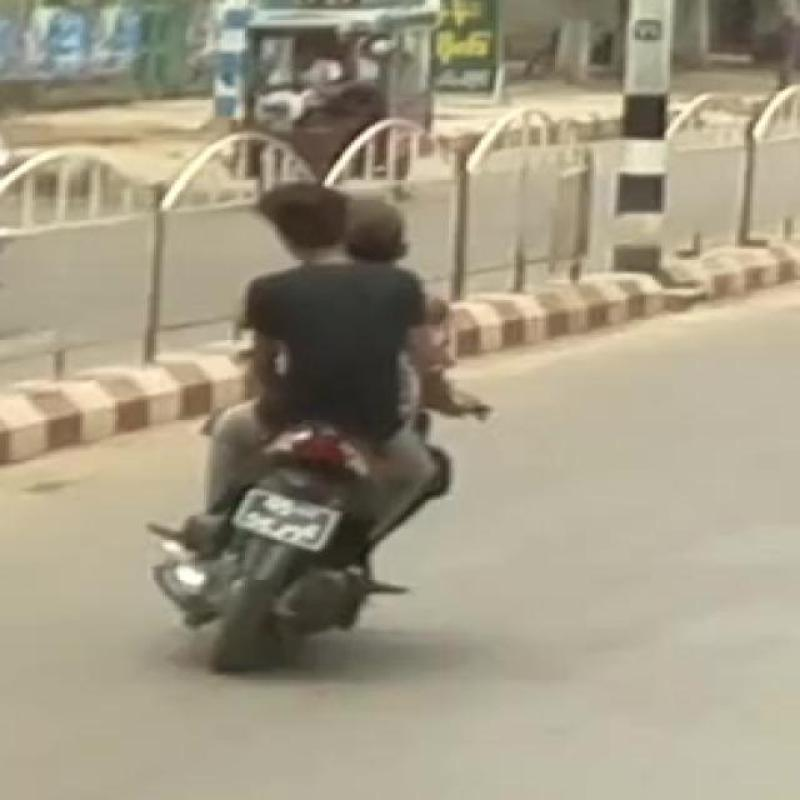nohelmet: (244, 165, 422, 276)
